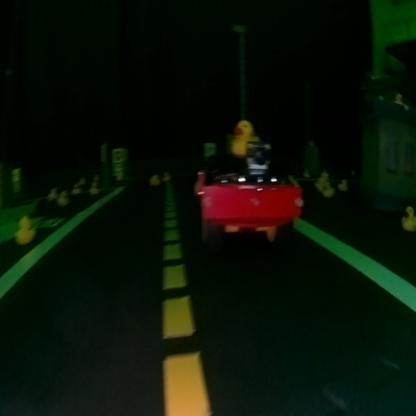duckie: (9, 206, 43, 255), (230, 110, 260, 162), (399, 196, 415, 240)
duckiebot: (188, 139, 316, 256)
